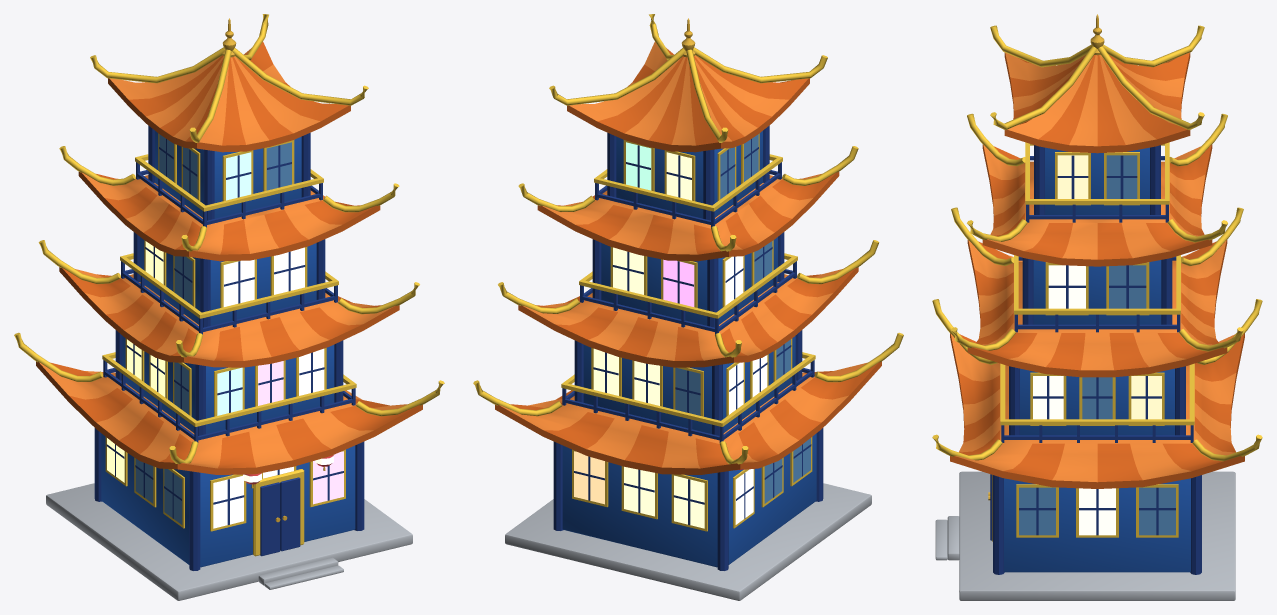
Rendered from pagode_pequeno_laranja.glb.
3 renders of one model, left to right at view 1: azimuth 30°, elevation 25°; view 2: azimuth 150°, elevation 25°; view 3: azimuth 270°, elevation 25°, orthographic. The views are drawn at different scales.
Visible parts, largest first — view 1: pagode_pequeno_laranja; view 2: pagode_pequeno_laranja; view 3: pagode_pequeno_laranja.
Boxes of the visible parts, bbox=[...] form: pagode_pequeno_laranja: bbox=[14, 14, 444, 600]; pagode_pequeno_laranja: bbox=[473, 14, 903, 600]; pagode_pequeno_laranja: bbox=[932, 14, 1262, 600].
Size of the model in its own units: 9.53 by 16.85 by 9.56.
7 materials, 1 textured.
